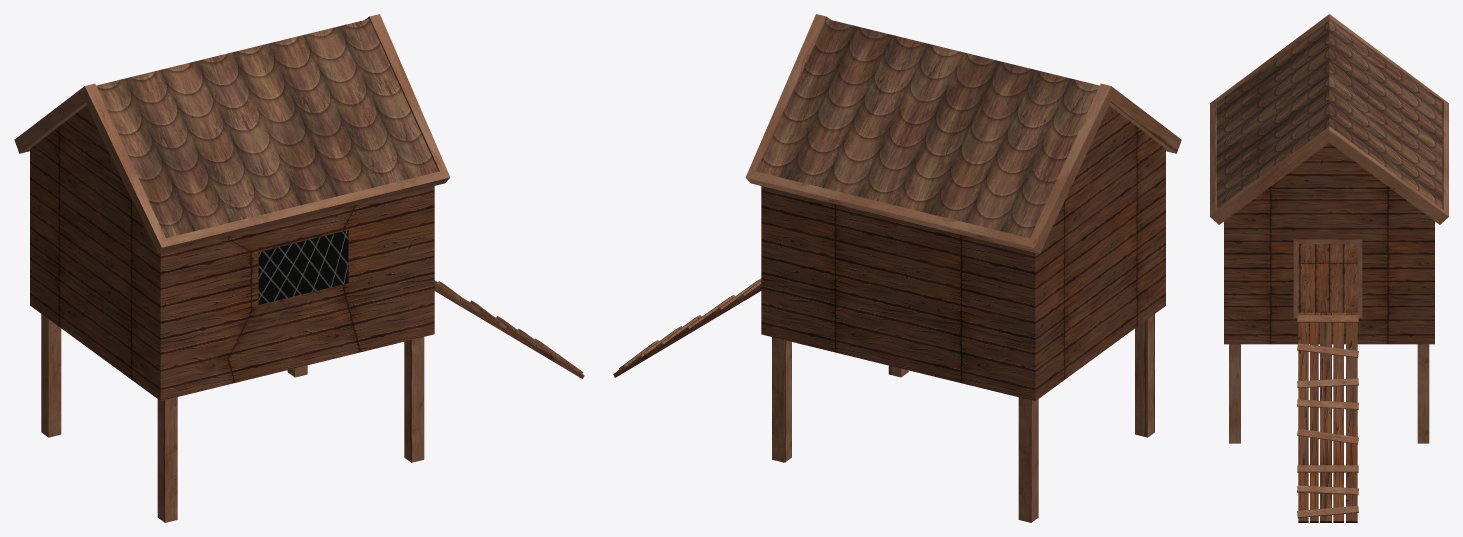
The model's file is Galinheiro.fbx.
The picture shows the model from 3 angles, left to right: view 1: azimuth 30°, elevation 25°; view 2: azimuth 150°, elevation 25°; view 3: azimuth 270°, elevation 25°; orthographic projection. The views are drawn at different scales.
Visible parts, largest first — view 1: Cube.008, Cube.011, Cube.013, Cube.018, Cube.021; view 2: Cube.008, Cube.011, Cube.013, Cube.021; view 3: Cube.008, Cube.011, Cube.021, Cube.013, Cube.022.
Part boxes in pixels (left/top/right/bottom): Cube.008: left=30, top=105, right=434, bottom=522; Cube.011: left=96, top=19, right=438, bottom=237; Cube.013: left=14, top=14, right=450, bottom=253; Cube.018: left=258, top=230, right=348, bottom=304; Cube.021: left=434, top=280, right=584, bottom=378; Cube.008: left=761, top=105, right=1165, bottom=522; Cube.011: left=757, top=19, right=1099, bottom=238; Cube.013: left=745, top=14, right=1181, bottom=253; Cube.021: left=613, top=278, right=761, bottom=377; Cube.008: left=1224, top=143, right=1434, bottom=443; Cube.011: left=1216, top=20, right=1442, bottom=207; Cube.021: left=1297, top=312, right=1358, bottom=522; Cube.013: left=1210, top=14, right=1448, bottom=224; Cube.022: left=1293, top=239, right=1362, bottom=318.
Size of the model in its own units: 243 by 191 by 129.
